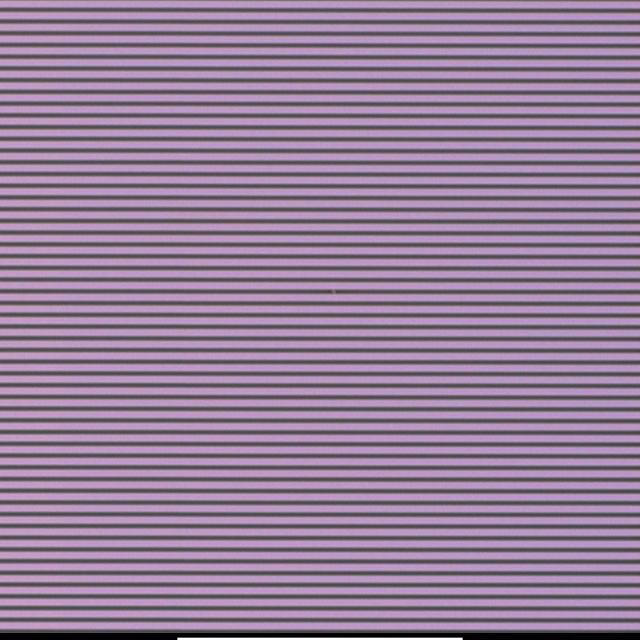03_intrusion: (328, 286, 341, 299)
